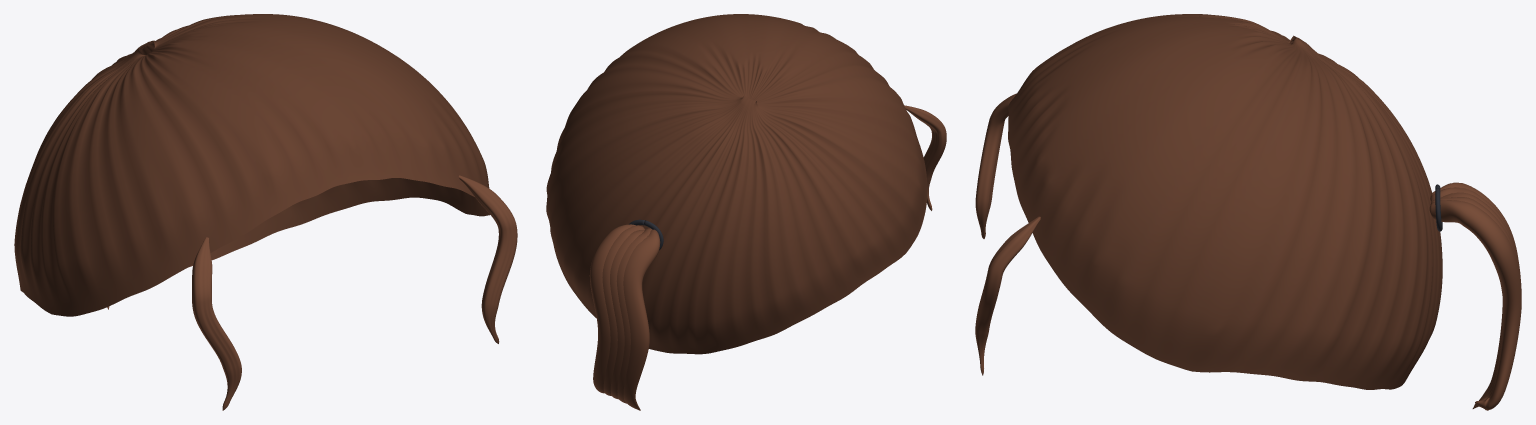
The model's file is ponytail-cowboy-default.glb.
The picture shows the model from 3 angles, left to right: view 1: azimuth 30°, elevation 25°; view 2: azimuth 150°, elevation 25°; view 3: azimuth 270°, elevation 25°; orthographic projection. The views are drawn at different scales.
Visible parts, largest first — view 1: 226 hair / Hair / crisp pulled roots220.001, 226 hair / Hair / sculpted front locks222.001; view 2: 226 hair / Hair / crisp pulled roots220.001, 226 hair / Hair / chestnut226, 226 hair / Hair / sculpted front locks222.001; view 3: 226 hair / Hair / crisp pulled roots220.001, 226 hair / Hair / chestnut226, 226 hair / Hair / sculpted front locks222.001.
Part boxes in pixels (bbox=[...]): 226 hair / Hair / crisp pulled roots220.001: bbox=[14, 14, 489, 316]; 226 hair / Hair / sculpted front locks222.001: bbox=[192, 175, 517, 410]; 226 hair / Hair / crisp pulled roots220.001: bbox=[546, 14, 927, 354]; 226 hair / Hair / chestnut226: bbox=[589, 224, 660, 410]; 226 hair / Hair / sculpted front locks222.001: bbox=[904, 105, 946, 210]; 226 hair / Hair / crisp pulled roots220.001: bbox=[1008, 14, 1442, 389]; 226 hair / Hair / chestnut226: bbox=[1429, 182, 1521, 410]; 226 hair / Hair / sculpted front locks222.001: bbox=[975, 93, 1040, 375].
Size of the model in its own units: 0.7726 by 0.6579 by 0.8609.
